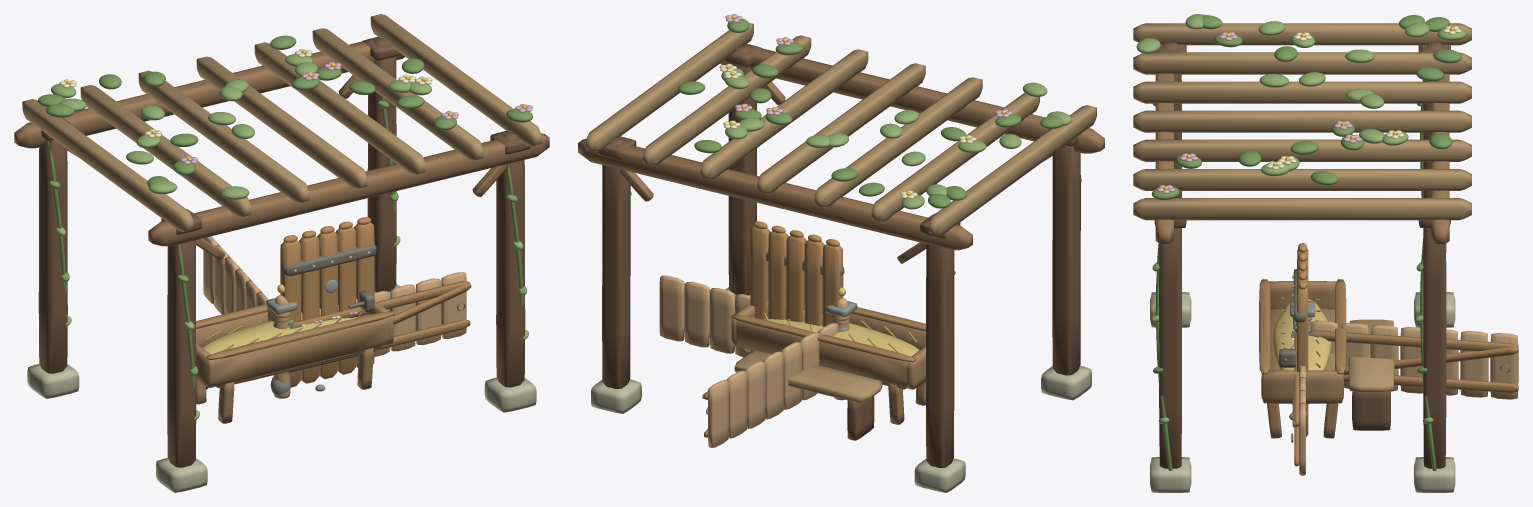
The model's file is granja_cercas.glb.
3 views of the same model, side by side, from view 1: azimuth 30°, elevation 25°; view 2: azimuth 150°, elevation 25°; view 3: azimuth 270°, elevation 25° (orthographic). The views are drawn at different scales.
Parts seen in each view (by area): view 1: viga 1.2, poste -1.7-1.15, poste -1.71.15, poste 1.71.15, lado 0.32, liston 0, liston 6, viga -1.2, liston 2, liston 3, liston 4, liston 5 (+27 smaller); view 2: viga -1.2, poste -1.71.15, poste 1.7-1.15, poste -1.7-1.15, viga 1.2, liston 0, liston 6, liston 2, liston 3, liston 4, liston 5, lado -0.32 (+27 smaller); view 3: liston 6, liston 3, liston 2, liston 5, liston 1, liston 4, liston 0, poste 1.7-1.15, poste 1.71.15, punta 0.92, banco, heno (+26 smaller).
Boxes of the visible parts, box(x1,y1,x2,y2) form: viga 1.2: box(148, 133, 549, 246); poste -1.7-1.15: box(38, 140, 67, 373); poste -1.71.15: box(167, 240, 196, 467); poste 1.71.15: box(496, 132, 525, 387); lado 0.32: box(214, 317, 388, 385); liston 0: box(22, 99, 193, 231); liston 6: box(370, 14, 541, 146); viga -1.2: box(14, 41, 404, 148); liston 2: box(138, 70, 309, 203); liston 3: box(196, 56, 367, 188); liston 4: box(254, 42, 425, 174); liston 5: box(312, 28, 483, 160); viga -1.2: box(578, 138, 972, 250); poste -1.71.15: box(1052, 145, 1080, 375); poste 1.7-1.15: box(602, 137, 630, 388); poste -1.7-1.15: box(926, 244, 954, 467); viga 1.2: box(720, 48, 1104, 153); liston 0: box(929, 105, 1096, 235); liston 6: box(586, 22, 753, 151); liston 2: box(814, 77, 982, 207); liston 3: box(757, 63, 925, 193); liston 4: box(700, 49, 868, 179); liston 5: box(643, 35, 811, 165); lado -0.32: box(736, 320, 907, 387); liston 6: box(1133, 198, 1471, 220); liston 3: box(1133, 110, 1471, 132); liston 2: box(1133, 81, 1471, 103); liston 5: box(1133, 169, 1471, 190); liston 1: box(1133, 52, 1471, 74); liston 4: box(1133, 139, 1471, 161); liston 0: box(1133, 23, 1471, 45); poste 1.7-1.15: box(1423, 228, 1446, 468); poste 1.71.15: box(1159, 228, 1181, 468); punta 0.92: box(1261, 370, 1343, 403); banco: box(1348, 319, 1394, 392); heno: box(1273, 299, 1331, 370).
Bounding box in the file's own units: 4.1 × 2.93 × 3.36.
